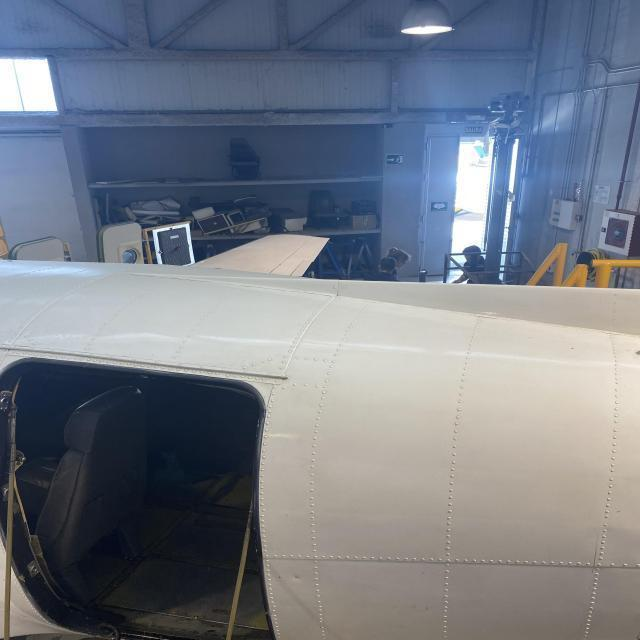Dent: (289, 570, 306, 583)
